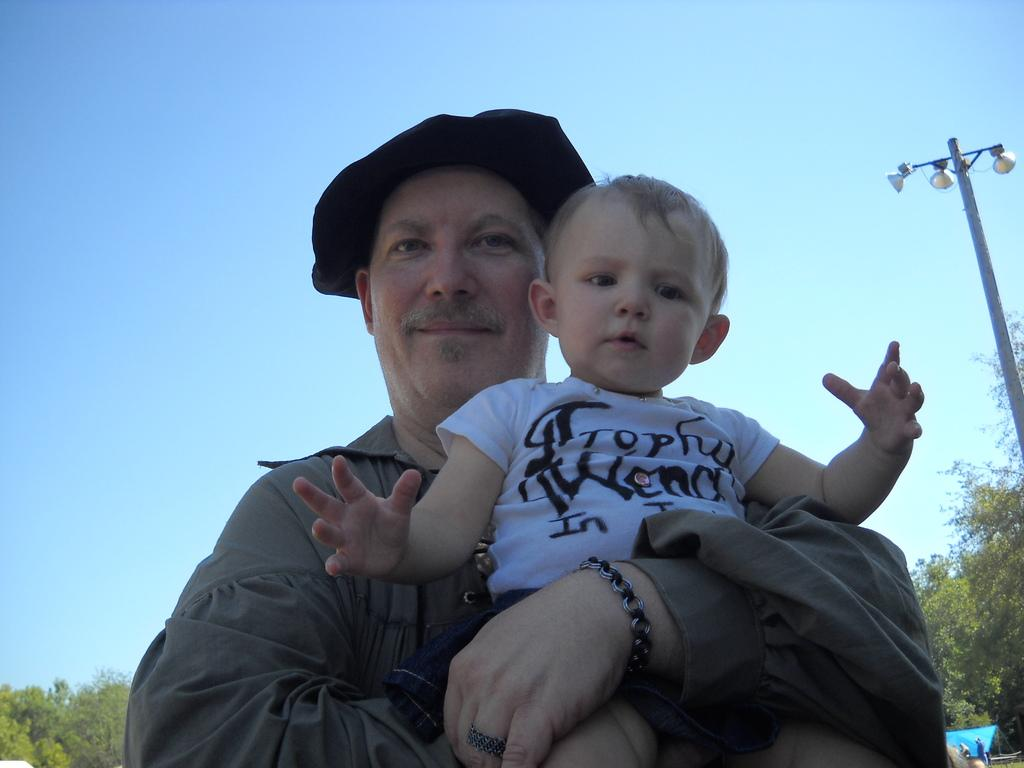Hat: (310, 109, 596, 300)
